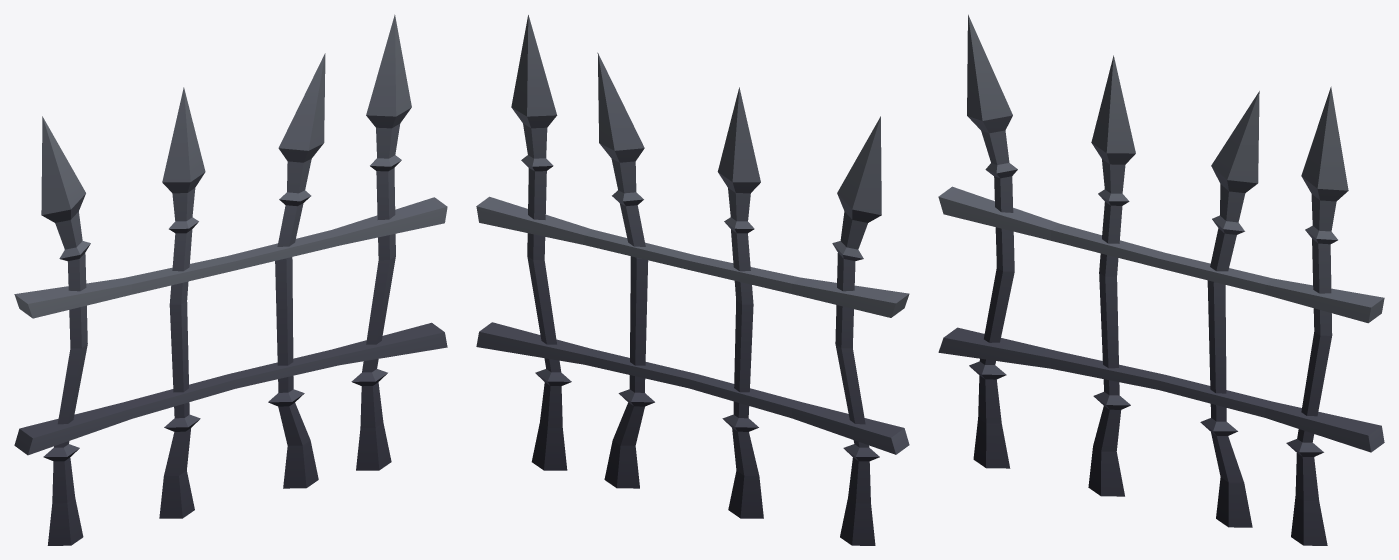
File: metal_fence.glb
3 renders of one model, left to right at view 1: azimuth 30°, elevation 25°; view 2: azimuth 150°, elevation 25°; view 3: azimuth 330°, elevation 25°, orthographic. The views are drawn at different scales.
Visible parts, largest first — view 1: metal_fence; view 2: metal_fence; view 3: metal_fence.
Boxes of the visible parts, x1=… form: metal_fence: x1=14, y1=14, x2=447, y2=545; metal_fence: x1=476, y1=15, x2=909, y2=545; metal_fence: x1=938, y1=14, x2=1384, y2=545.
Size of the model in its own units: 5.44 by 5.54 by 0.3248.
Materials: 1 (1 with a texture image).
